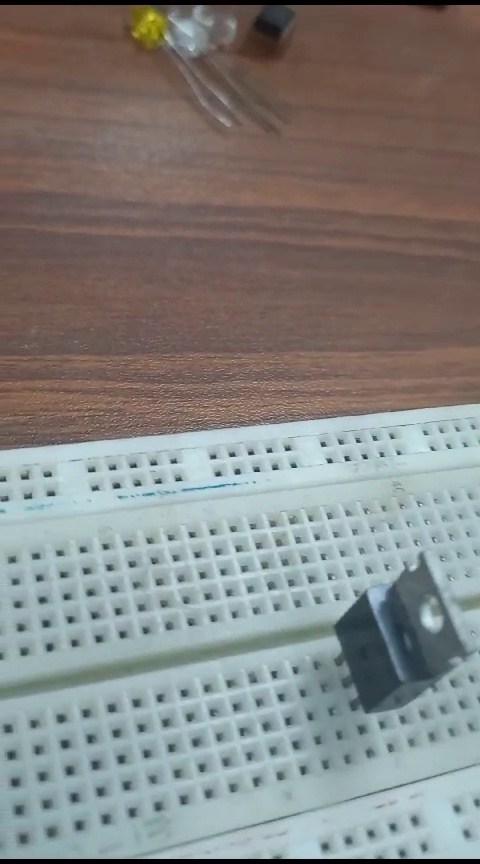voltage regulator: (320, 552, 480, 724)
